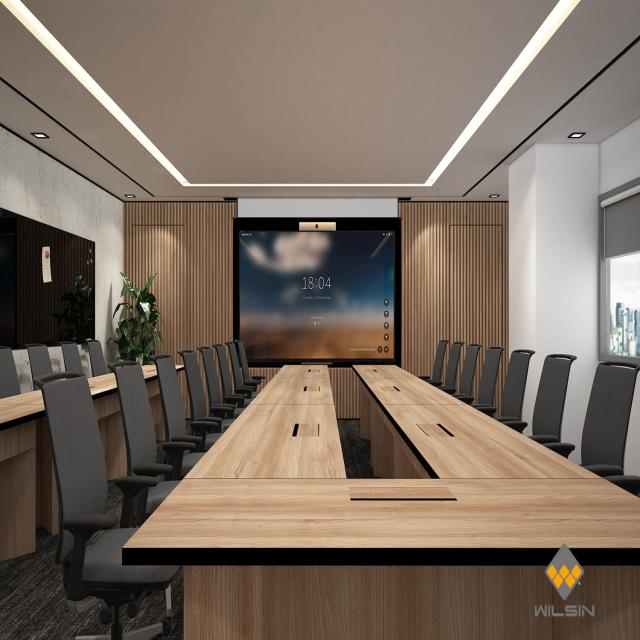chair: (37, 371, 182, 640), (576, 358, 638, 476)
